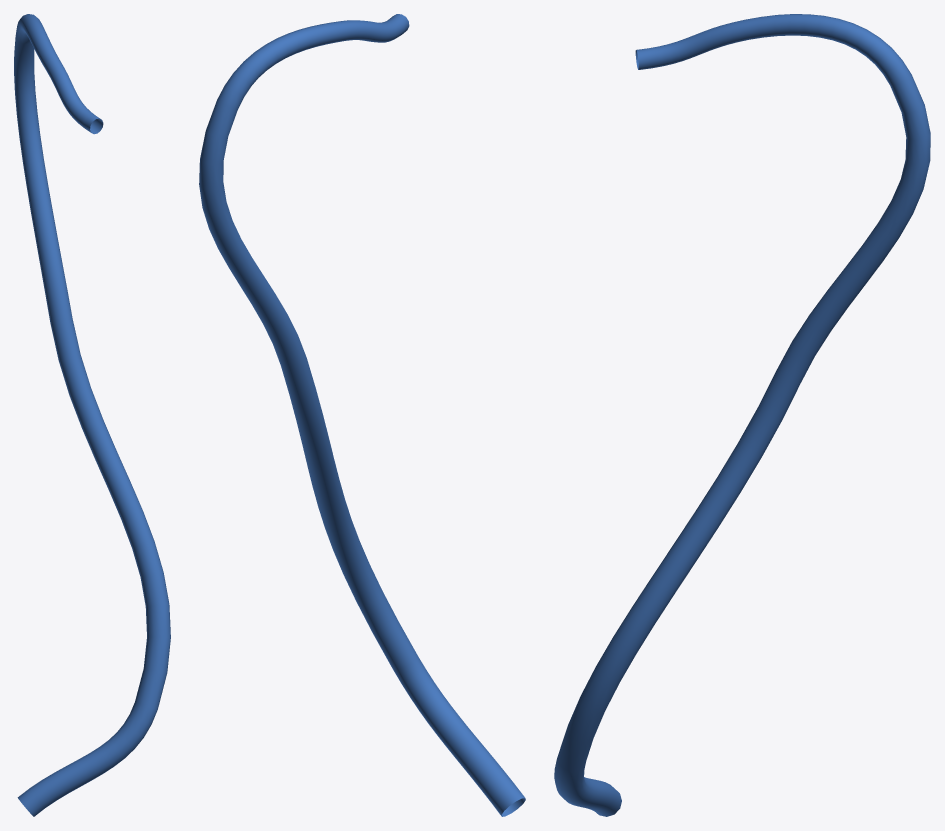
The picture shows the model from 3 angles, left to right: view 1: azimuth 30°, elevation 25°; view 2: azimuth 150°, elevation 25°; view 3: azimuth 270°, elevation 25°; orthographic projection. The views are drawn at different scales.
Parts seen in each view (by area): view 1: 左侧旋肩胛静脉; view 2: 左侧旋肩胛静脉; view 3: 左侧旋肩胛静脉.
Boxes of the visible parts, x1,y1,x2,y2 form: 左侧旋肩胛静脉: (14, 14, 170, 816); 左侧旋肩胛静脉: (199, 14, 525, 816); 左侧旋肩胛静脉: (554, 14, 930, 816).
Size of the model in its own units: 0.0179 by 0.0799 by 0.0319.
